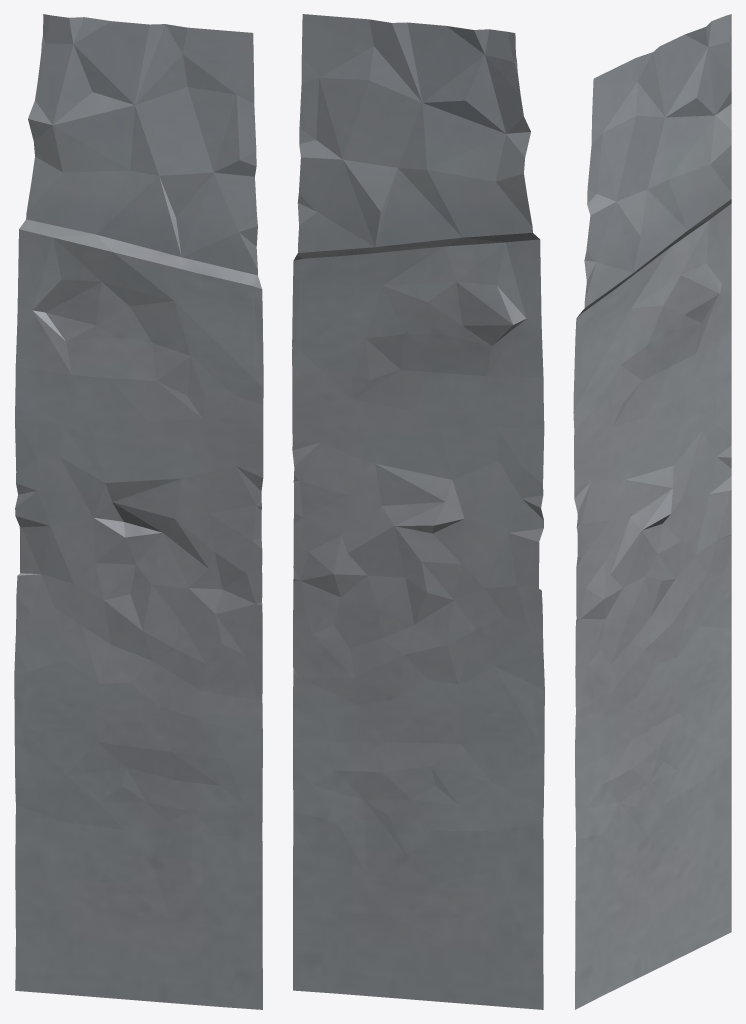
3 views of the same model, side by side, from view 1: azimuth 30°, elevation 25°; view 2: azimuth 210°, elevation 25°; view 3: azimuth 270°, elevation 25° (orthographic). The views are drawn at different scales.
Bounding box in the file's own units: 0.3019 × 1.67 × 0.2575.
1 material, 1 textured.
